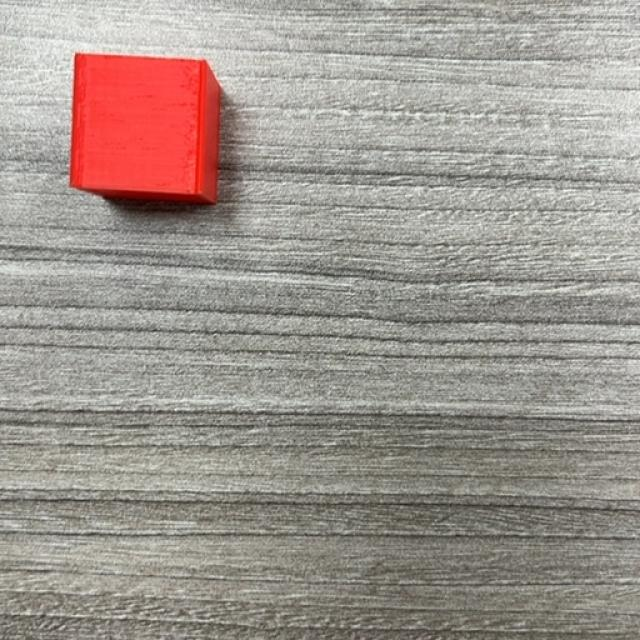Rojo: (69, 52, 225, 208)
